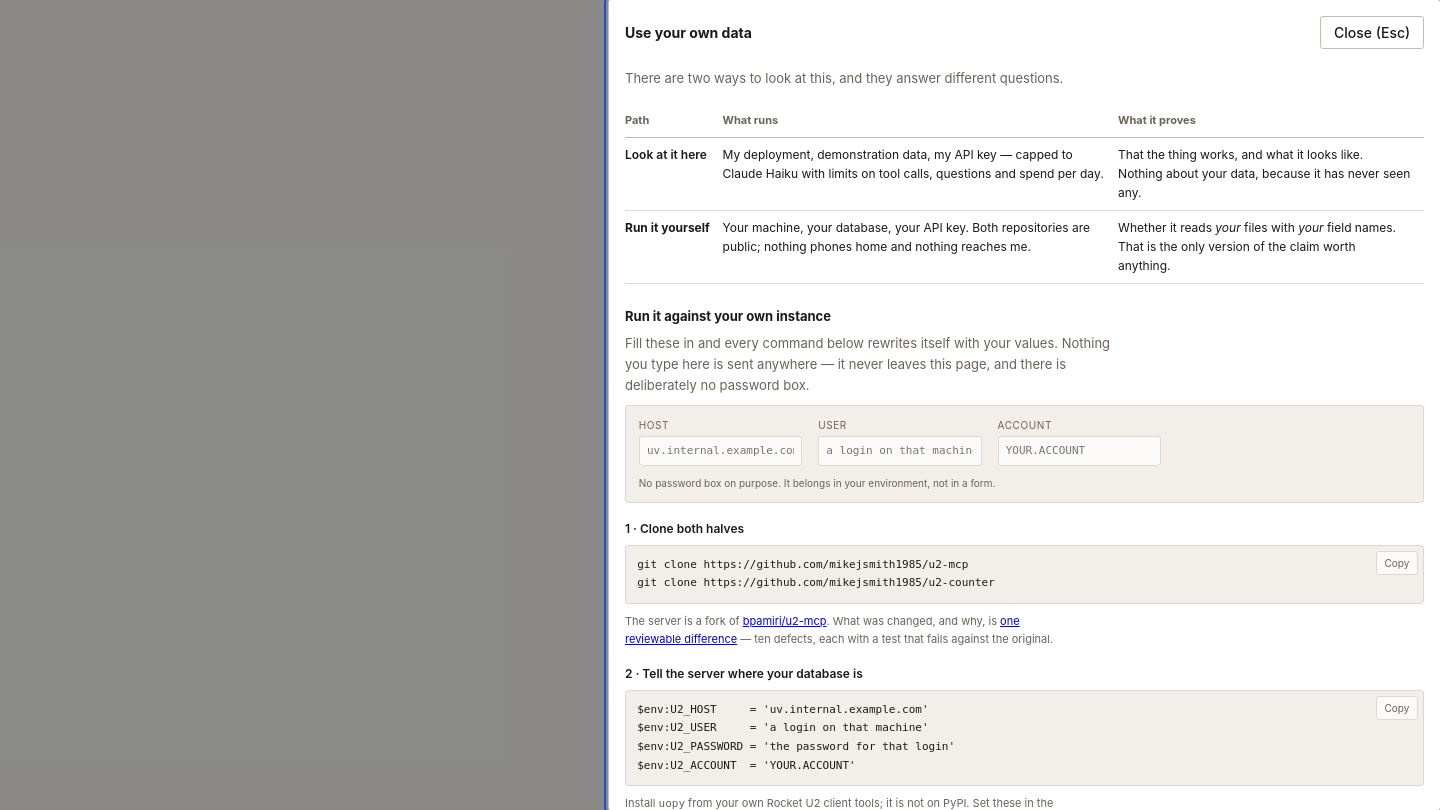
Test: the connect panel › rewrites the commands with whatever values are typed
This screenshot has width=1440, height=810.
Type "uv.acme.internal" into the field labelled "Host".
click(720, 451); type("uv.acme.internal")  # box [639,436,802,466]
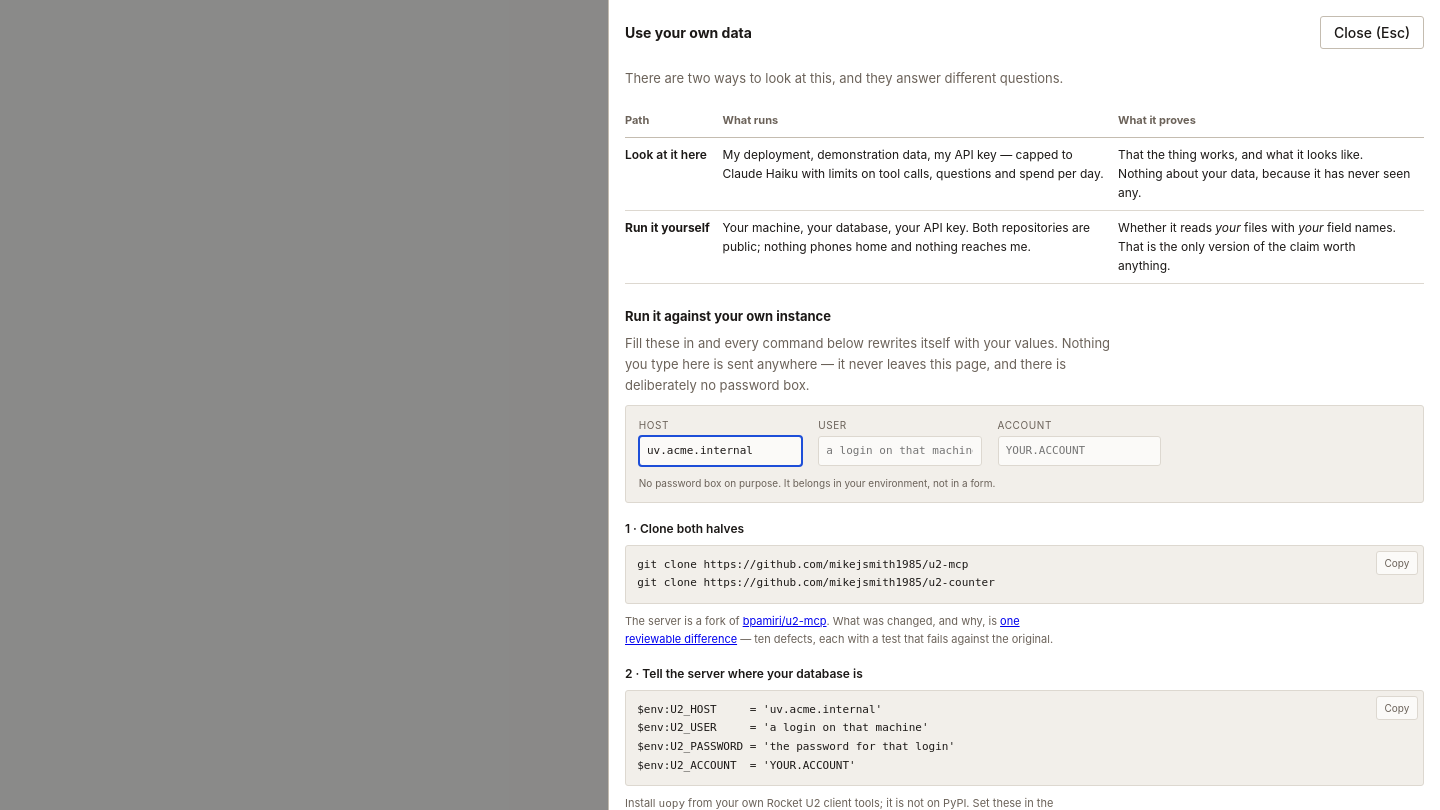
Type "LIVE.WHOLESALE" into the field labelled "Account".
click(1079, 451); type("LIVE.WHOLESALE")  # box [998,436,1161,466]
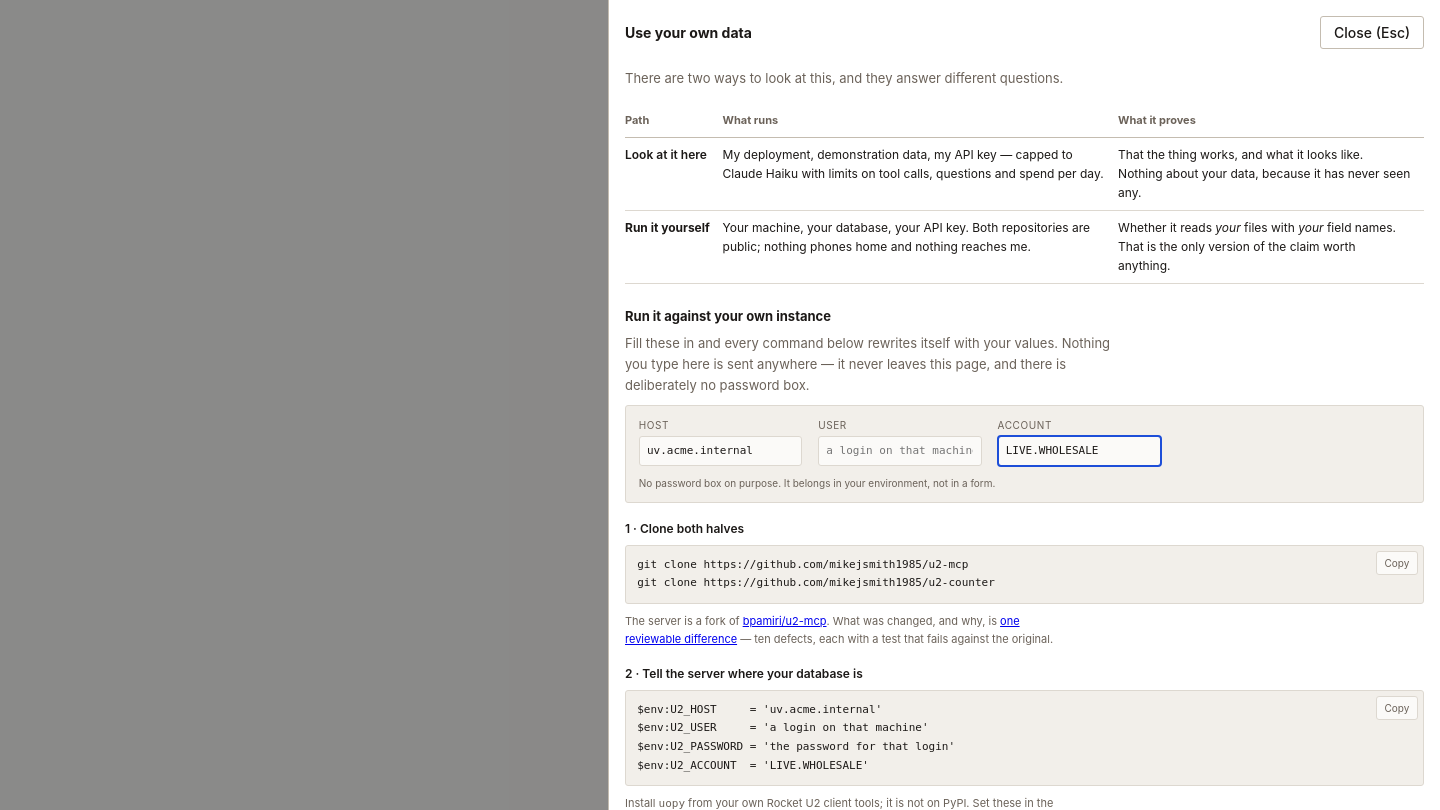
Expected: the text "uv.internal.example.com" is not shown
Expected: the text "uv.acme.internal" is shown, [637,702,955,772]
Expected: the text "LIVE.WHOLESALE" is shown, [637,702,955,772]
